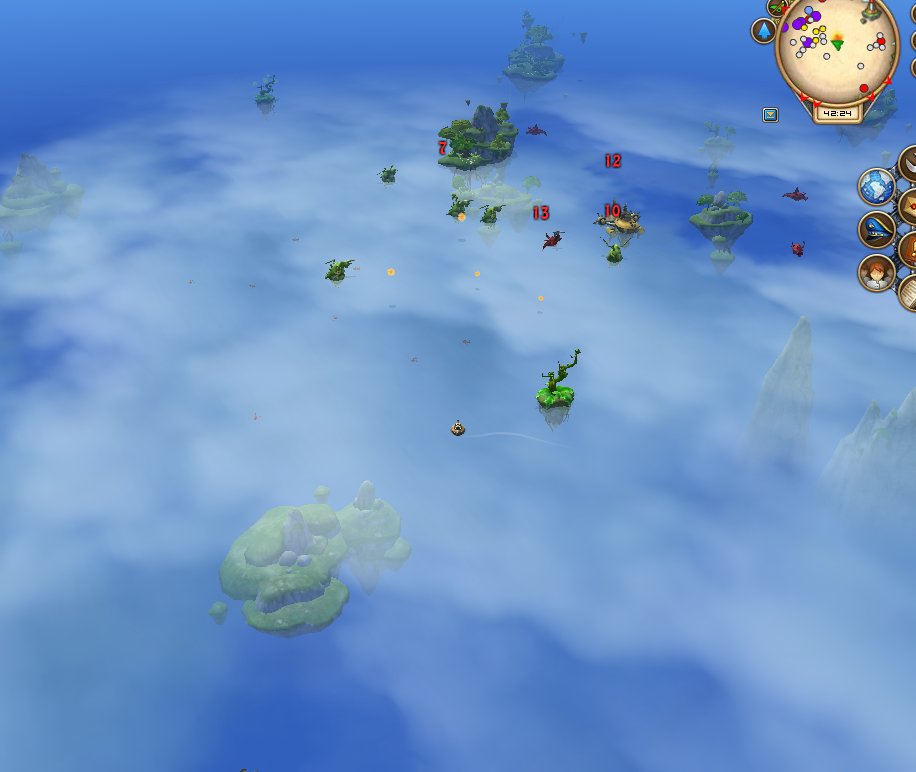dandelion-empty: (534, 347, 583, 429)
dandelion-full: (250, 69, 280, 116)
fluff: (382, 264, 397, 280), (455, 211, 469, 225), (534, 291, 547, 305), (471, 269, 482, 280)
